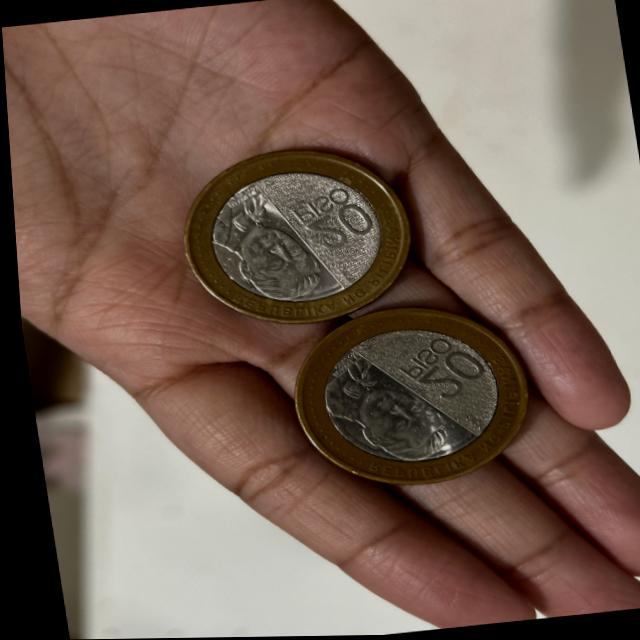20_New_Front: (287, 173, 383, 261), (392, 326, 485, 408)
